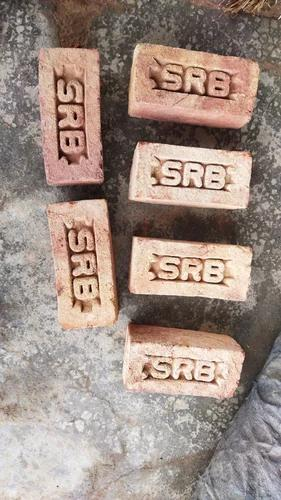brick: (132, 45, 258, 118), (38, 50, 99, 185), (50, 197, 111, 330), (130, 239, 251, 303), (130, 145, 250, 208), (124, 341, 246, 396)
